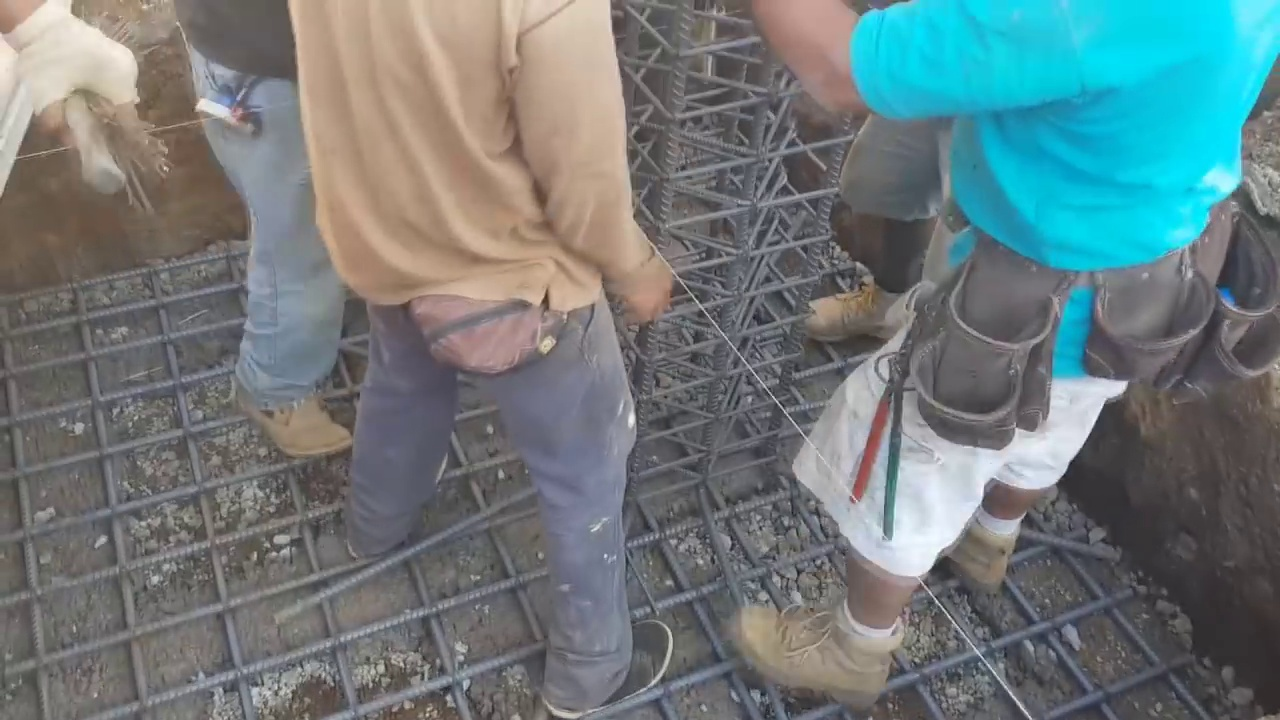person: (729, 0, 1280, 704), (255, 0, 688, 719), (172, 0, 352, 488)
